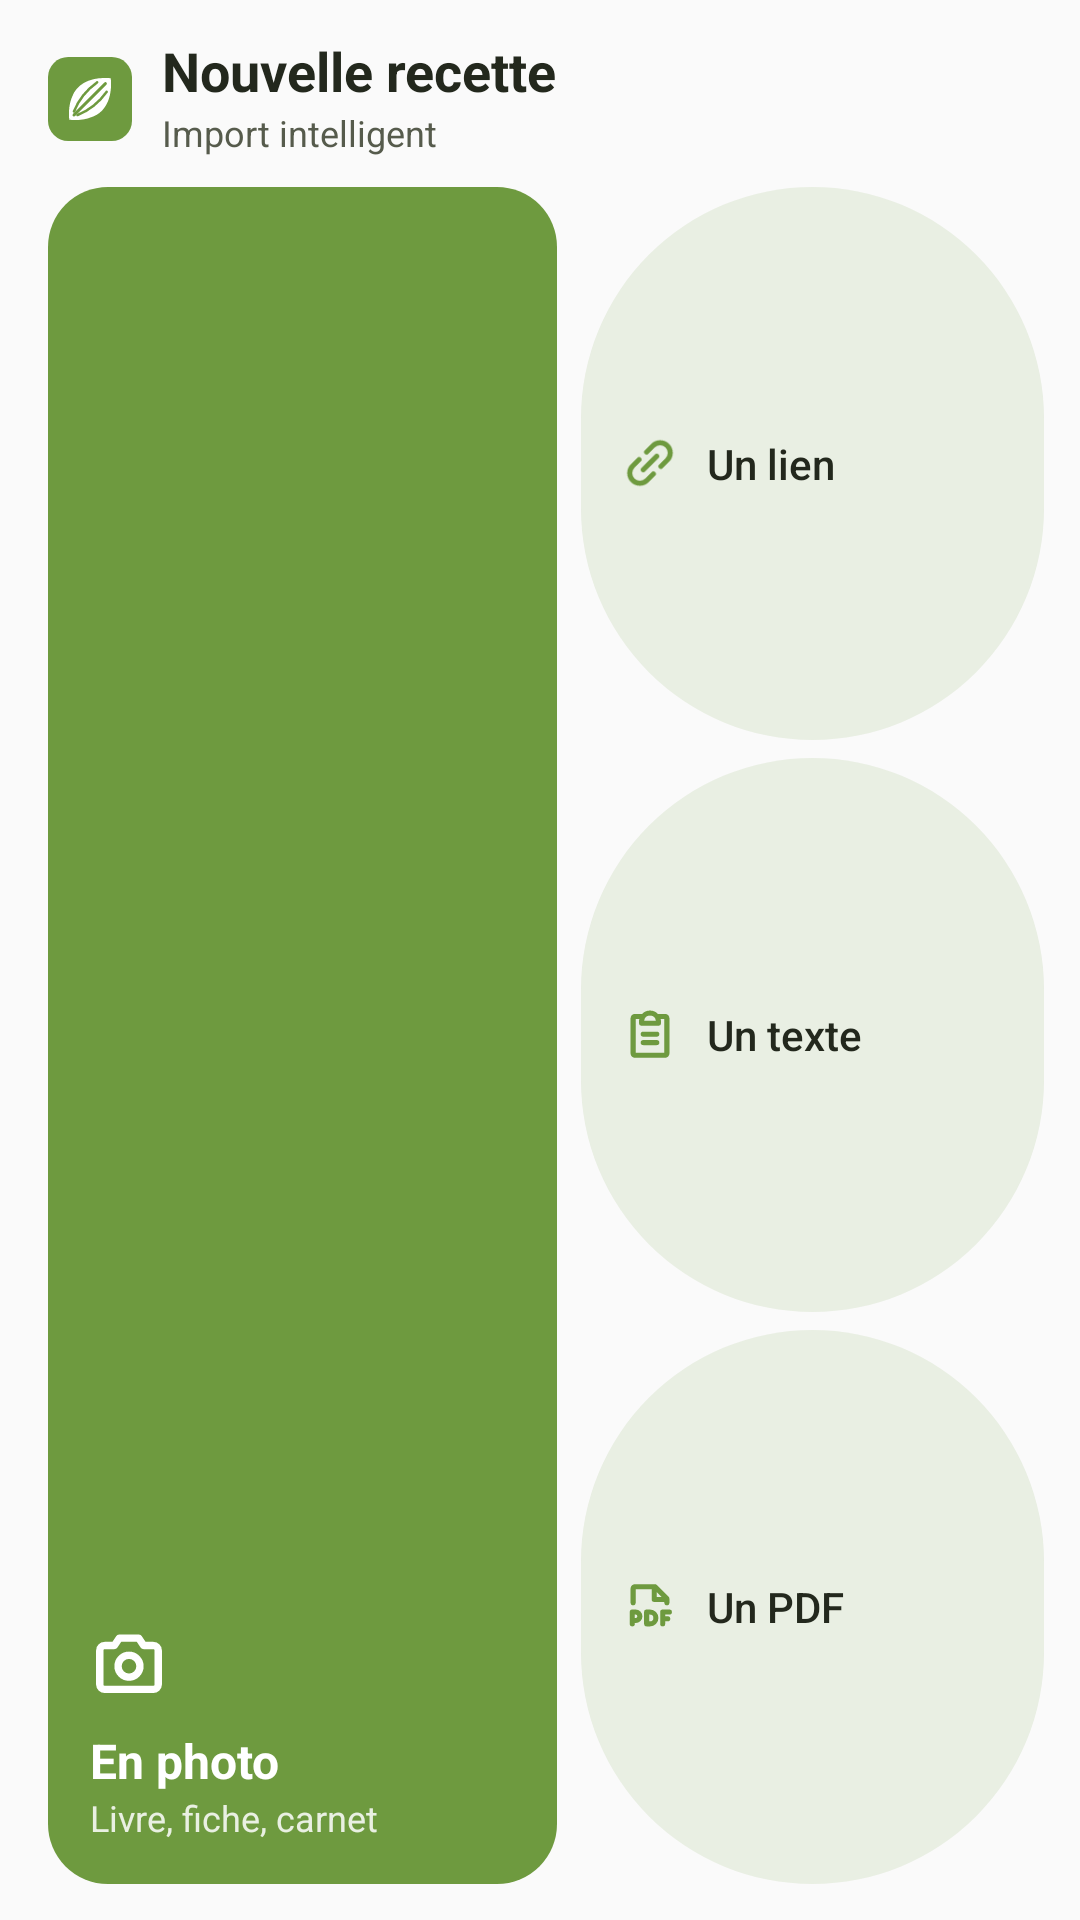

Where to tap for icons on this 1080px x 1920px app screen, as point (x, y):
glyph camera: point (129, 1663)
glyph link: point (650, 463)
glyph paste: point (650, 1034)
